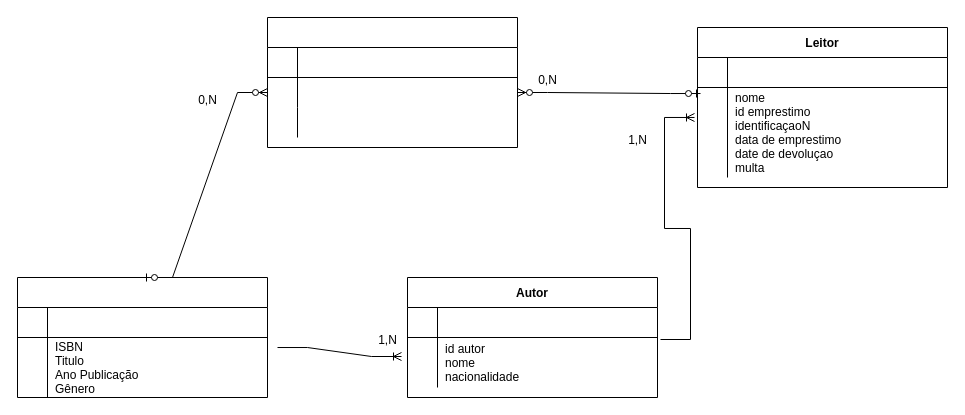
The diagram is 965 pixels wide and 415 high, and some of its shapes have lost their labels. Here are the shapes that lost their labels. From the top down, the box of each, then its label:
(266, 16, 518, 148): Emprestimos
(16, 276, 268, 398): Livros
